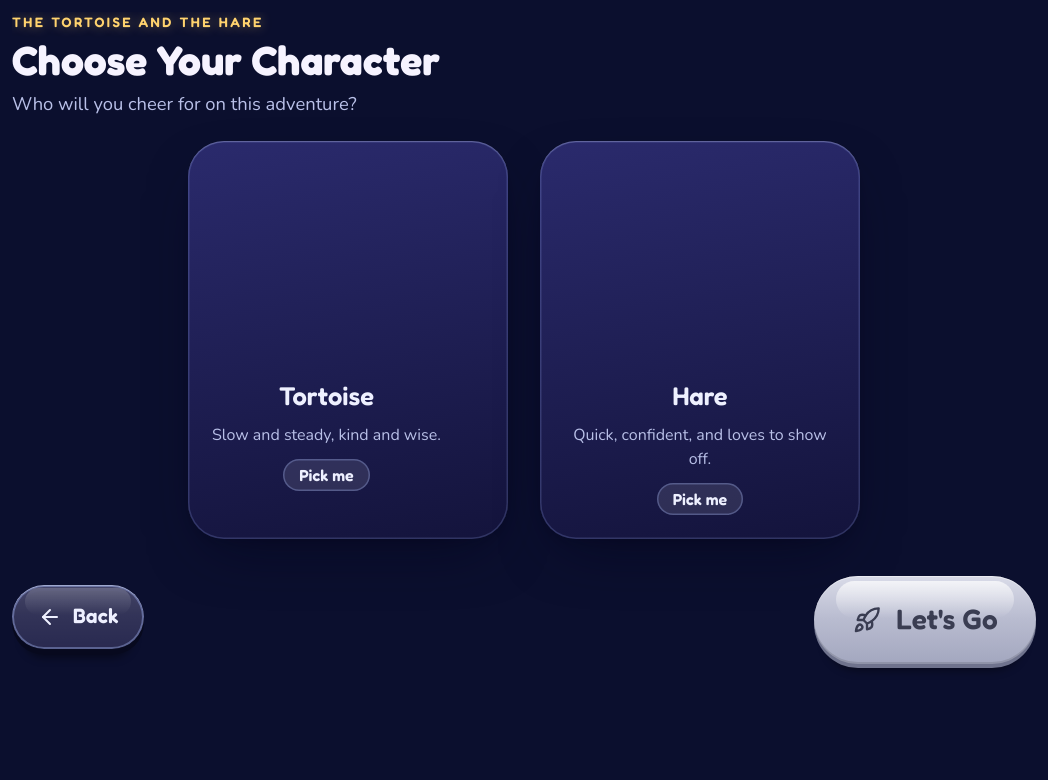
it: CharacterSelectPage › disables "Let's Go" until a character is chosen, then enables it
The width and height of the screenshot is (1048, 780).
expect the button "Let's Go" is disabled: met, box 814,572 -> 1036,668
Click the button "Tortoise Slow and steady, kind and wise. Pick me" at {"x": 326, "y": 396}, box 188,141 -> 508,540
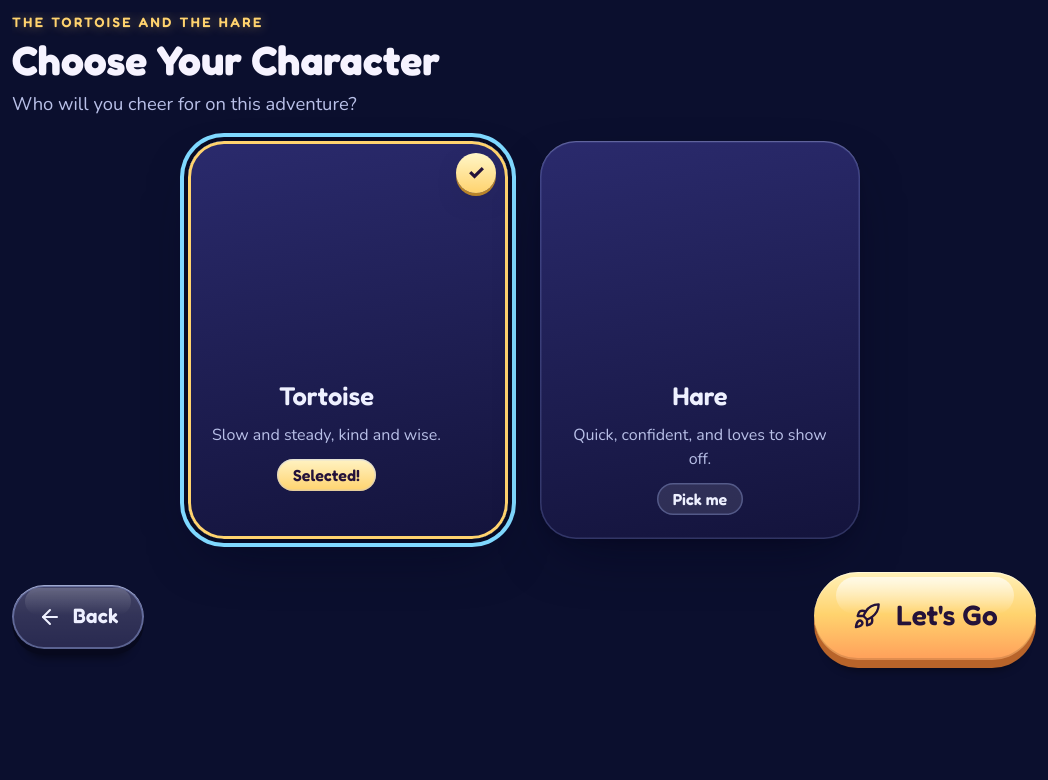
expect the button "Let's Go" is enabled: met, box 814,572 -> 1036,668
